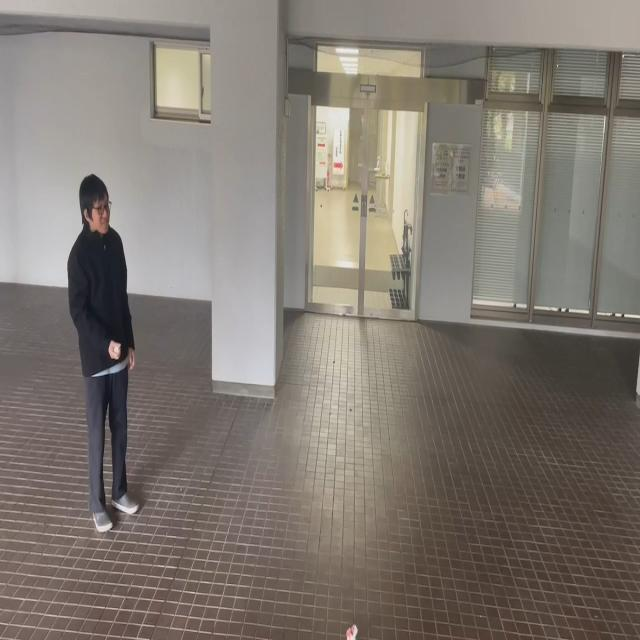paper: (344, 621, 359, 639), (112, 346, 120, 358)
